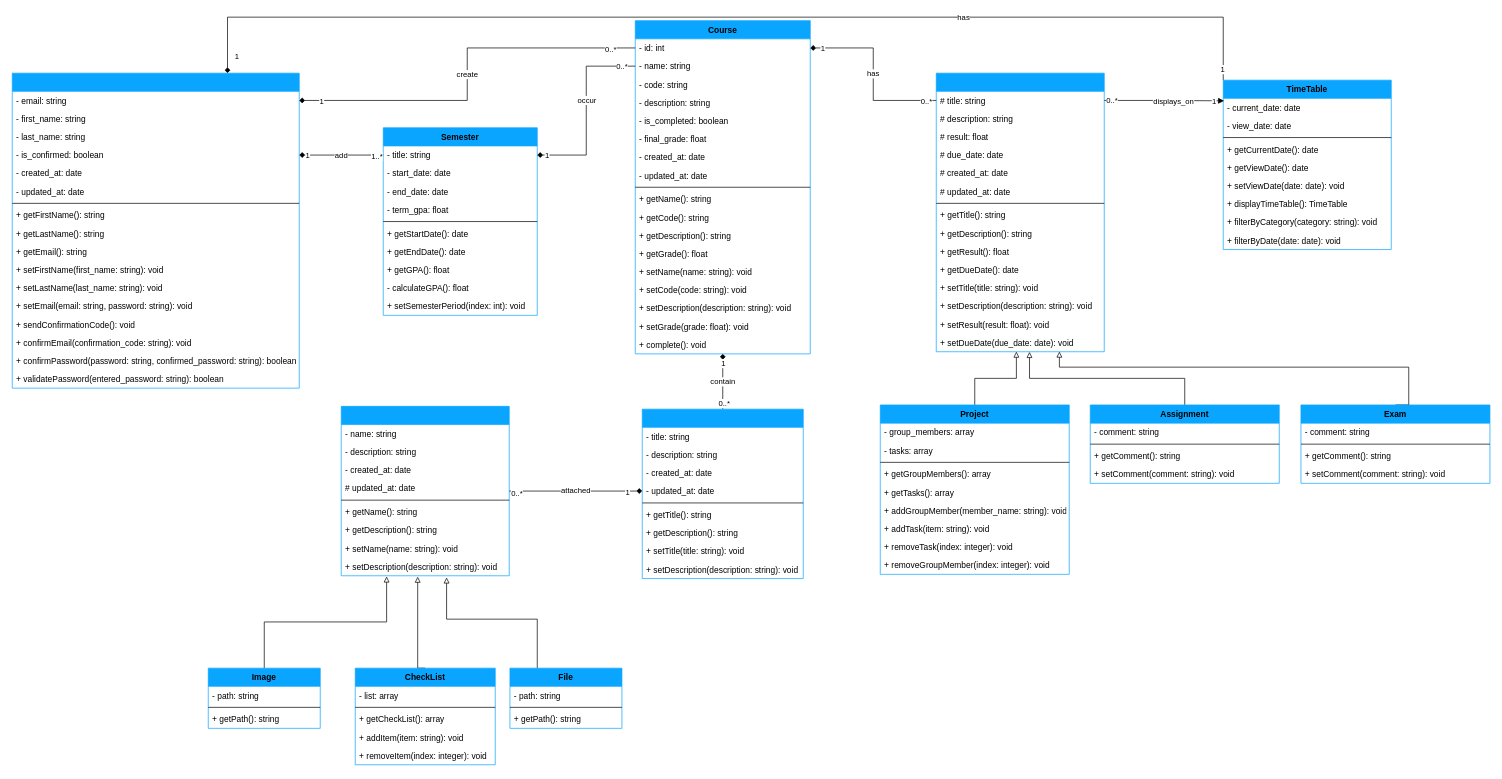
Image size: 1502x779. Some labels were removed from this diagram. The box of each missing label's shape, as (x1, y1, x2, y2) in pixels:
Activity: (936, 72, 1104, 352)
Attachment: (341, 406, 509, 576)
Note: (642, 408, 803, 579)
Student: (12, 72, 299, 388)
